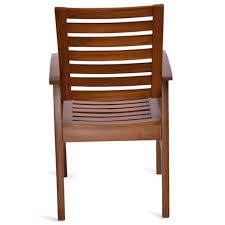tiyarina: (39, 3, 183, 224)
